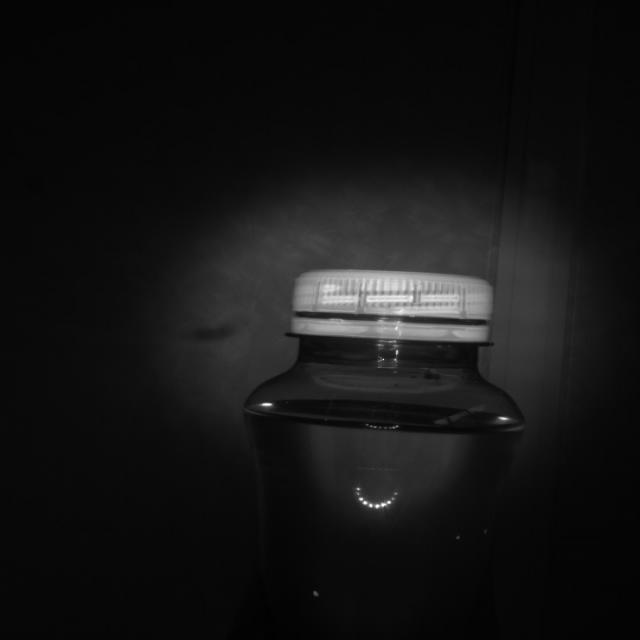Not Good: (292, 266, 497, 342)
